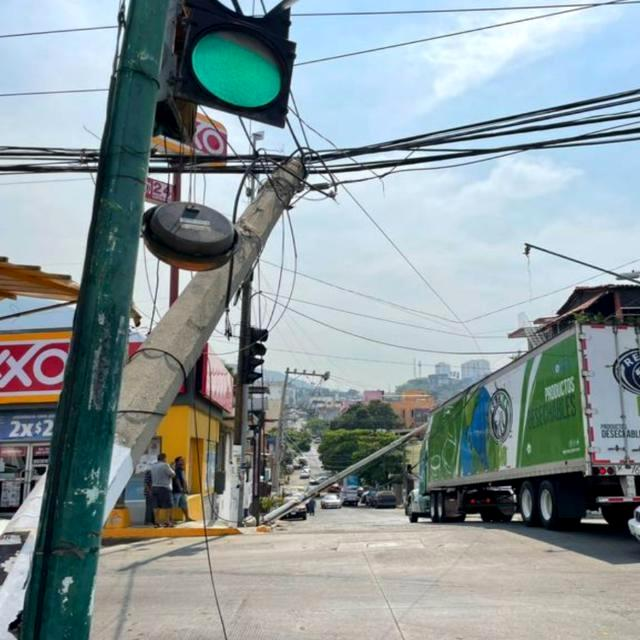Broken Pole: (0, 145, 321, 640), (254, 424, 423, 526)
